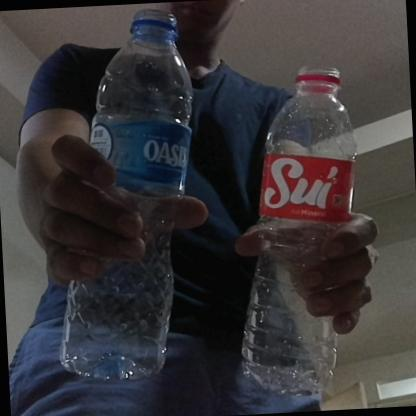plastic_bottles: (39, 6, 204, 382), (222, 66, 370, 403)
